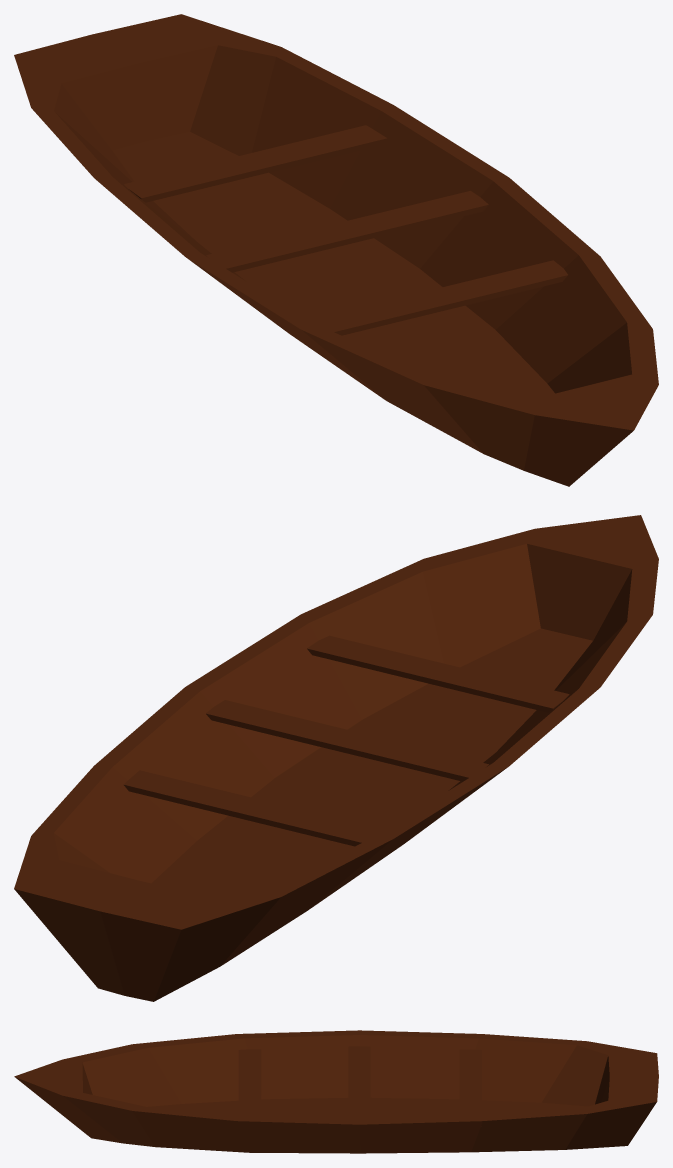
The model's file is Boat.fbx.
3 views of the same model, one above another, from view 1: azimuth 30°, elevation 25°; view 2: azimuth 150°, elevation 25°; view 3: azimuth 270°, elevation 25° (orthographic). The views are drawn at different scales.
Parts seen in each view (by area): view 1: Circle, Cube, Cube.002, Cube.001; view 2: Circle, Cube, Cube.001, Cube.002; view 3: Circle, Cube, Cube.001, Cube.002.
Boxes of the visible parts, box(x1,y1,x2,y2) form: Circle: box(14, 14, 658, 486); Cube: box(206, 191, 488, 272); Cube.002: box(124, 125, 387, 202); Cube.001: box(308, 260, 567, 335); Circle: box(14, 515, 658, 1001); Cube: box(206, 700, 488, 781); Cube.001: box(307, 635, 569, 712); Cube.002: box(123, 770, 385, 846); Circle: box(14, 1030, 658, 1153); Cube: box(348, 1046, 370, 1120); Cube.001: box(238, 1049, 261, 1117); Cube.002: box(459, 1049, 481, 1126).
Size of the model in its own units: 476 by 146 by 1377.
